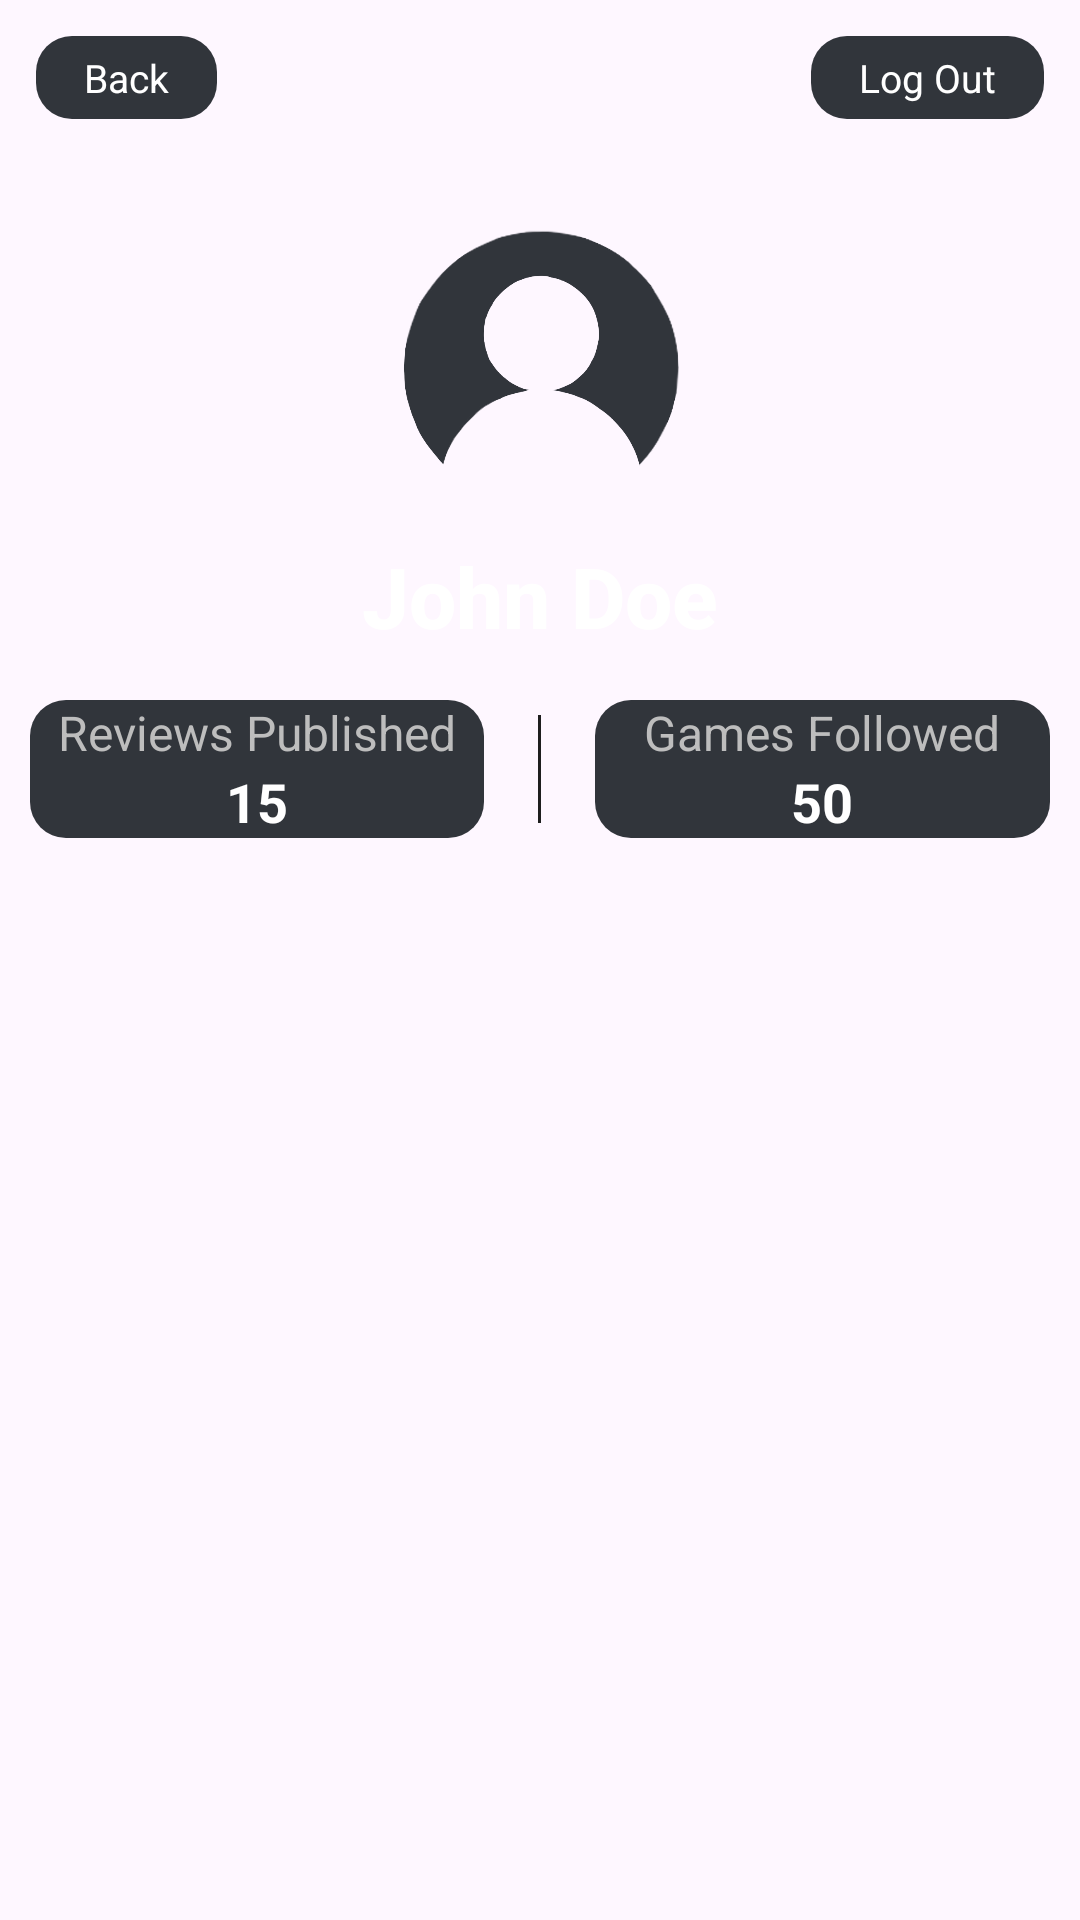

Icon bounding boxes for this 1080px x 1920px phone screenshot, format (x1, y1, x2, y2):
usuario: (404, 231, 679, 465)
